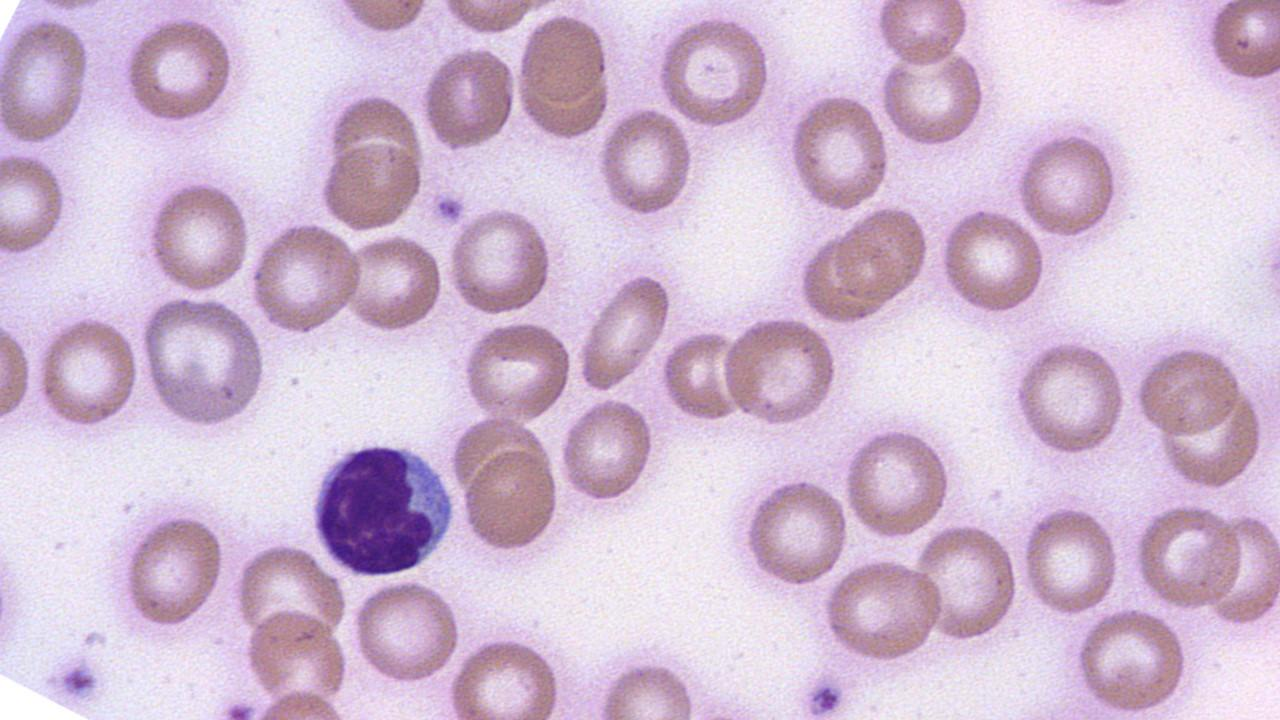Platelets: (432, 192, 466, 225)
RBC: (141, 292, 266, 430), (1012, 337, 1128, 459), (654, 13, 770, 131), (720, 315, 840, 428), (912, 520, 1020, 644), (842, 424, 954, 541), (822, 556, 942, 665), (249, 220, 363, 334), (122, 14, 236, 127), (146, 178, 253, 297), (1073, 607, 1191, 713), (574, 269, 673, 395), (788, 91, 890, 213), (741, 476, 851, 588), (35, 314, 141, 430), (122, 510, 225, 628), (938, 206, 1047, 317), (1154, 382, 1266, 490), (446, 204, 554, 316), (350, 578, 462, 686), (461, 318, 574, 425), (0, 15, 92, 146), (1132, 502, 1240, 612), (1014, 128, 1120, 240), (1020, 502, 1121, 618), (233, 542, 347, 644), (460, 445, 562, 555), (242, 606, 350, 709), (595, 106, 695, 217), (879, 48, 987, 149), (1134, 342, 1244, 441), (420, 44, 518, 154), (558, 394, 655, 504), (342, 232, 446, 333), (317, 138, 425, 234), (832, 204, 930, 306), (446, 635, 564, 717), (1205, 510, 1280, 630), (518, 10, 608, 109), (661, 326, 746, 423), (0, 148, 70, 262), (798, 230, 881, 324), (874, 1, 972, 70), (595, 656, 702, 718), (1205, 0, 1279, 88), (1, 513, 27, 679), (1, 306, 32, 444), (324, 1, 437, 37)
WBC: (308, 432, 465, 580)
